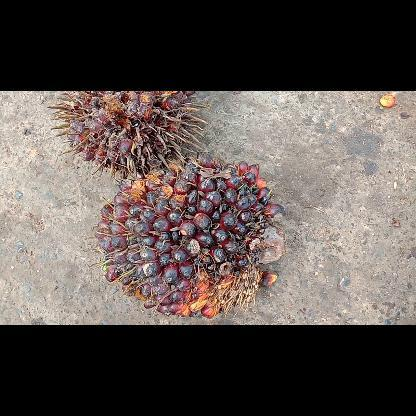Kurang masak: (92, 153, 284, 317)
TBS masak: (48, 90, 206, 176)
